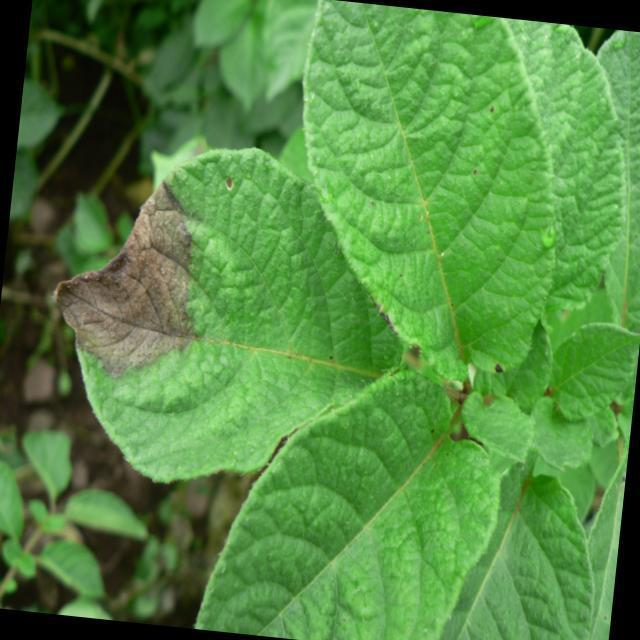Healthy Leaf: (275, 0, 576, 378), (219, 353, 504, 640), (548, 311, 640, 430)
